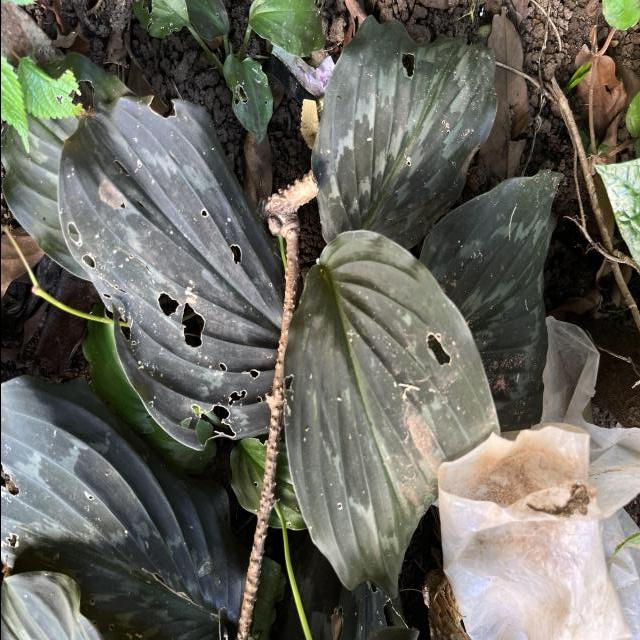Kaempferia galanga linn: (306, 13, 498, 253), (416, 166, 567, 435)
